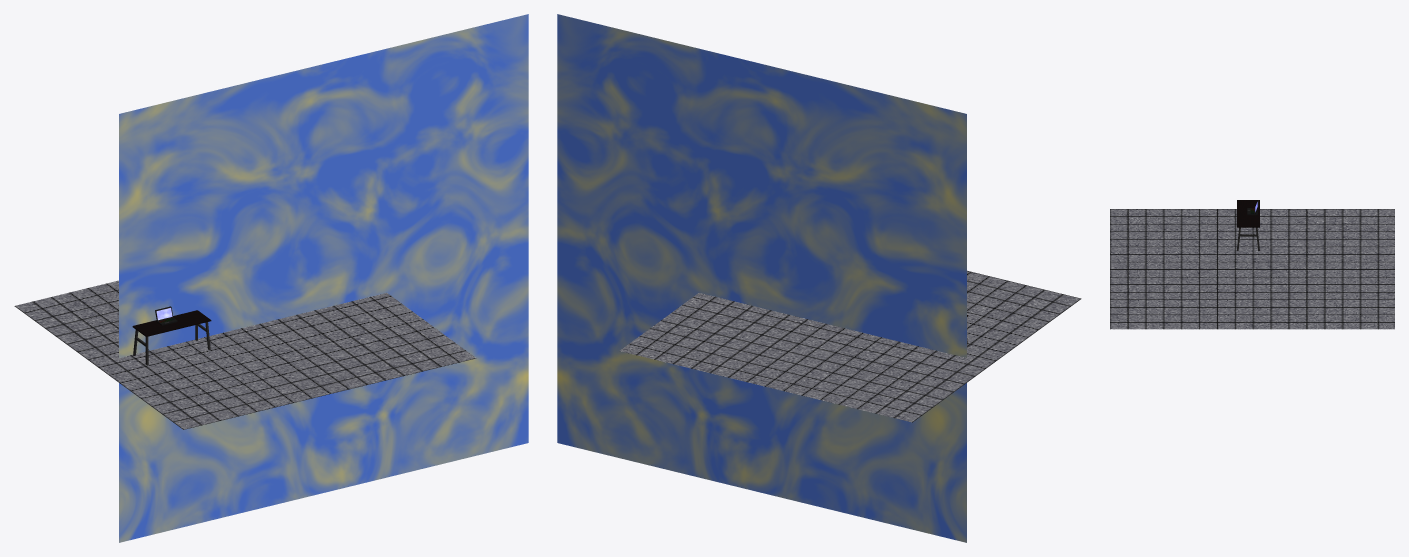
File: low_poly_laptop_computer.glb
3 renders of one model, left to right at view 1: azimuth 30°, elevation 25°; view 2: azimuth 150°, elevation 25°; view 3: azimuth 270°, elevation 25°, orthographic. The views are drawn at different scales.
Parts seen in each view (by area): view 1: Pared_3, Piso_2, Mesa_1; view 2: Pared_3, Piso_2; view 3: Piso_2, Mesa_1.
Boxes of the visible parts, x1,y1,x2,y2 form: Pared_3: (119, 14, 528, 542); Piso_2: (14, 280, 476, 429); Mesa_1: (132, 310, 211, 365); Pared_3: (557, 14, 966, 542); Piso_2: (620, 270, 1081, 422); Piso_2: (1110, 209, 1394, 329); Mesa_1: (1236, 200, 1259, 250).
Bounding box in the file's own units: 82.62 × 77.86 × 55.69.
8 materials, 5 textured.
